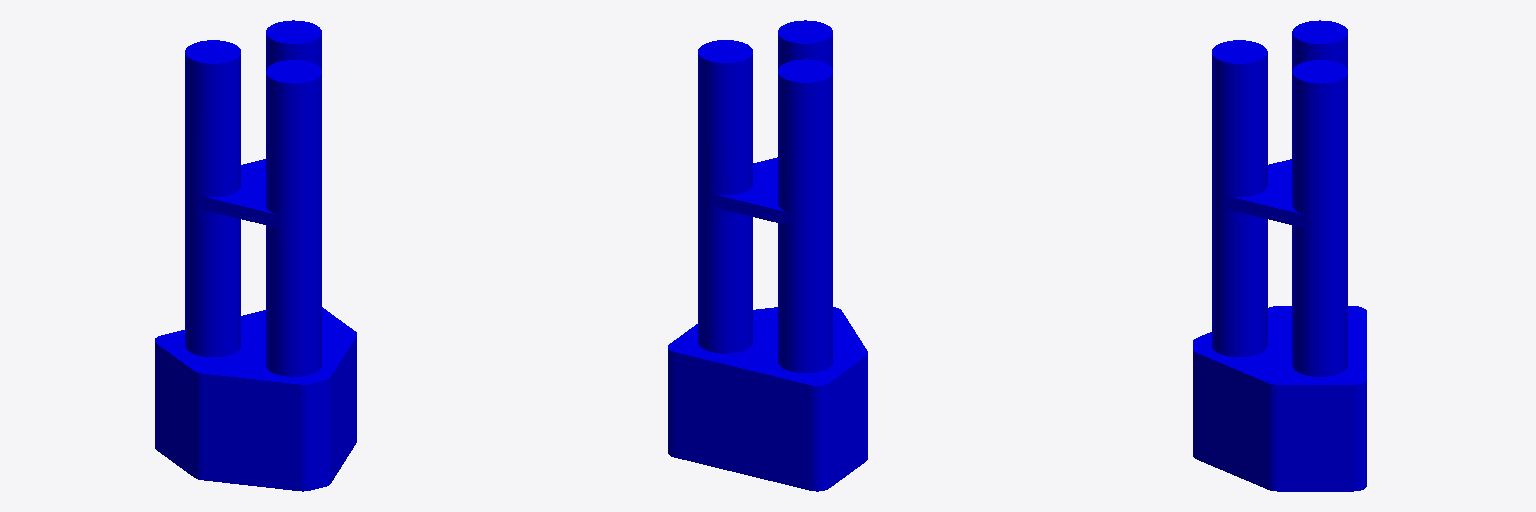
robot.urdf — board1_block10:
<?xml version="1.0"?>
<robot name="board1_block10">
    <link name="board1_block10">
        <visual>
            <origin xyz="0 0 0 " rpy=" 0 0 0"/>
            <geometry>
                <mesh filename="../meshes/SIMO_Board1_Block10.stl" scale="0.001 0.001 0.001"/>
            </geometry>
            <material name="red">
                <color rgba="0.0 0.0 1.0 1.0"/>
            </material>
        </visual>
        <collision>
            <origin xyz="0 0 0" rpy="0 0 0"/>
            <geometry>
                <mesh filename="../meshes/SIMO_Board1_Block10.stl" scale="0.001 0.001 0.001"/>
            </geometry>
        </collision>
    </link>
</robot>

--- Render facts (derived) ---
The picture shows the robot from 3 angles, left to right: view 1: azimuth 30°, elevation 25°; view 2: azimuth 150°, elevation 25°; view 3: azimuth 270°, elevation 25°; orthographic projection.
Robot: board1_block10 — 1 links, 0 joints (none); root link board1_block10; default pose: all joints at 0.
Links seen in each view (by area): view 1: board1_block10; view 2: board1_block10; view 3: board1_block10.
Boxes of the visible links, x1,y1,x2,y2 form: board1_block10: [155, 20, 356, 491]; board1_block10: [668, 20, 867, 491]; board1_block10: [1193, 20, 1366, 491].
Bounding box of the posed robot: 0.0634 × 0.0591 × 0.15 m (x, y, z).
1 mesh visuals loaded from 1 distinct referenced files (1 ASCII STL).